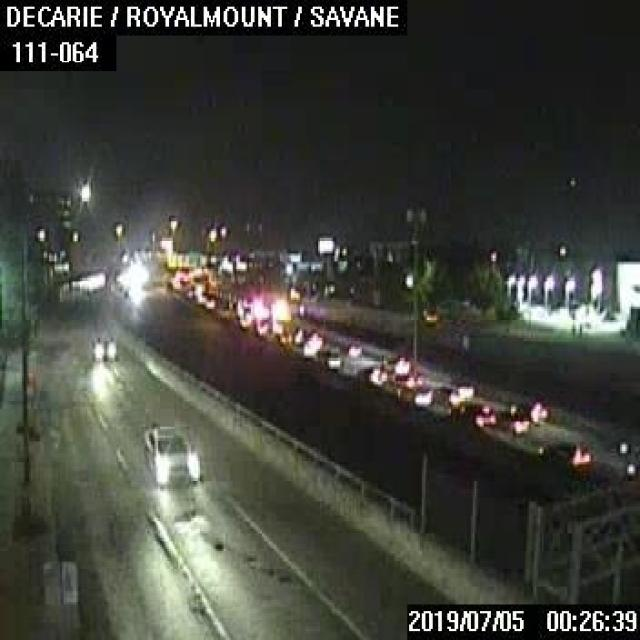vehicle: (142, 420, 202, 482), (540, 439, 592, 471), (448, 398, 497, 427), (496, 404, 530, 436), (508, 398, 547, 422), (395, 382, 431, 406), (90, 335, 117, 360), (356, 364, 386, 386), (445, 382, 475, 403), (314, 346, 339, 368)
